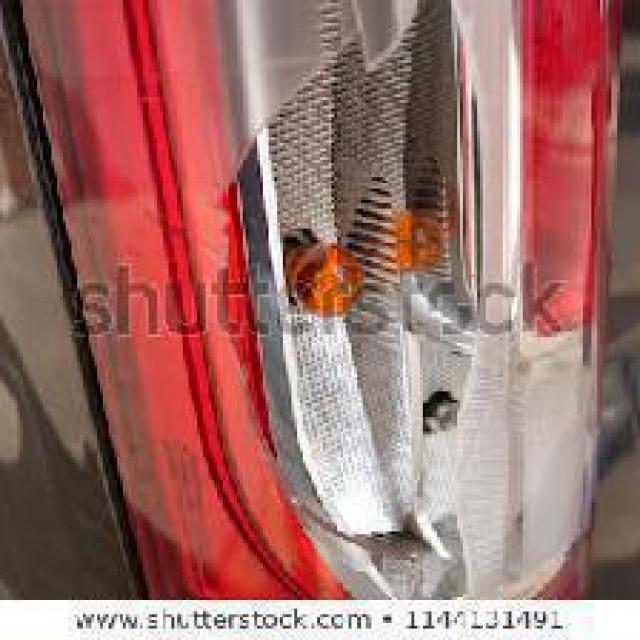damaged: (228, 6, 481, 600)
